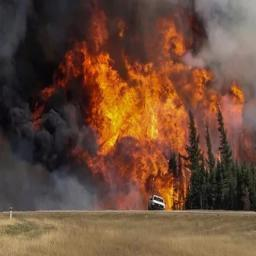Heavy smoke: (0, 0, 242, 190)
Large fire: (31, 0, 254, 218)
